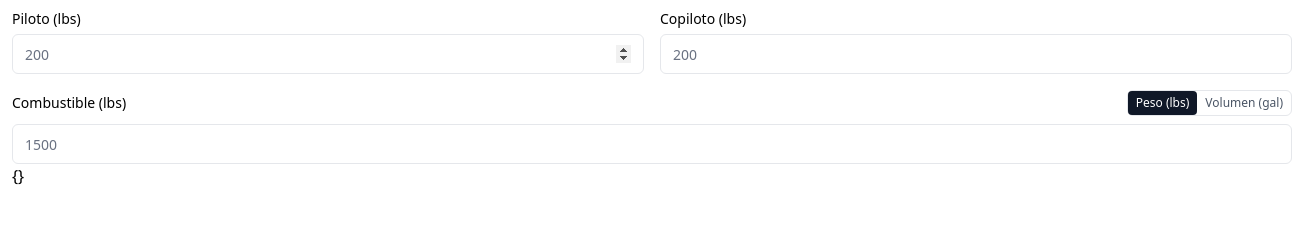
Scenario: StationForm › fuel by volume › converts US gallons to lbs at 6 lb/gal
Click the button "Volumen (gal)" at (1244, 103), box [1197, 91, 1291, 115]
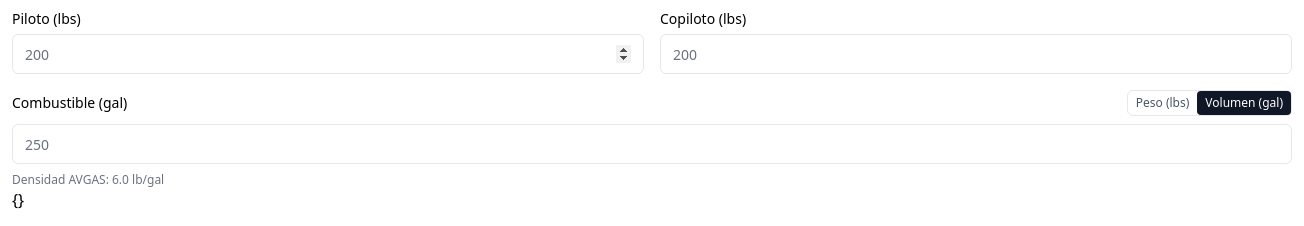
Type "50" into the number field labelled "Combustible (gal)" at (652, 144), box [12, 124, 1292, 164]
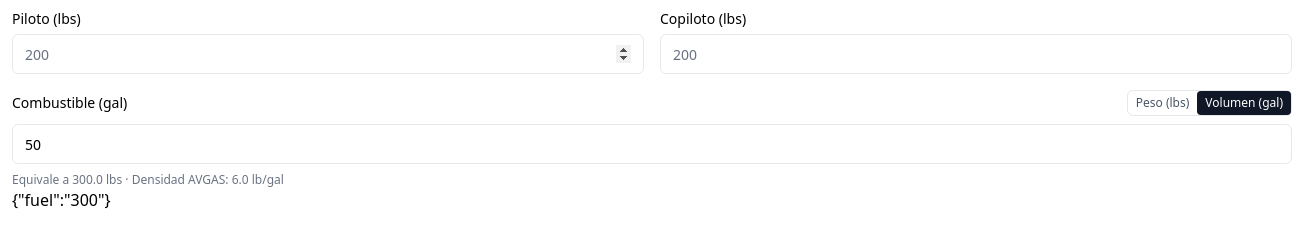
Now the text "Equivale a 300.0 lbs · Densidad AVGAS: 6.0 lb/gal" is shown, box [12, 171, 284, 188]
